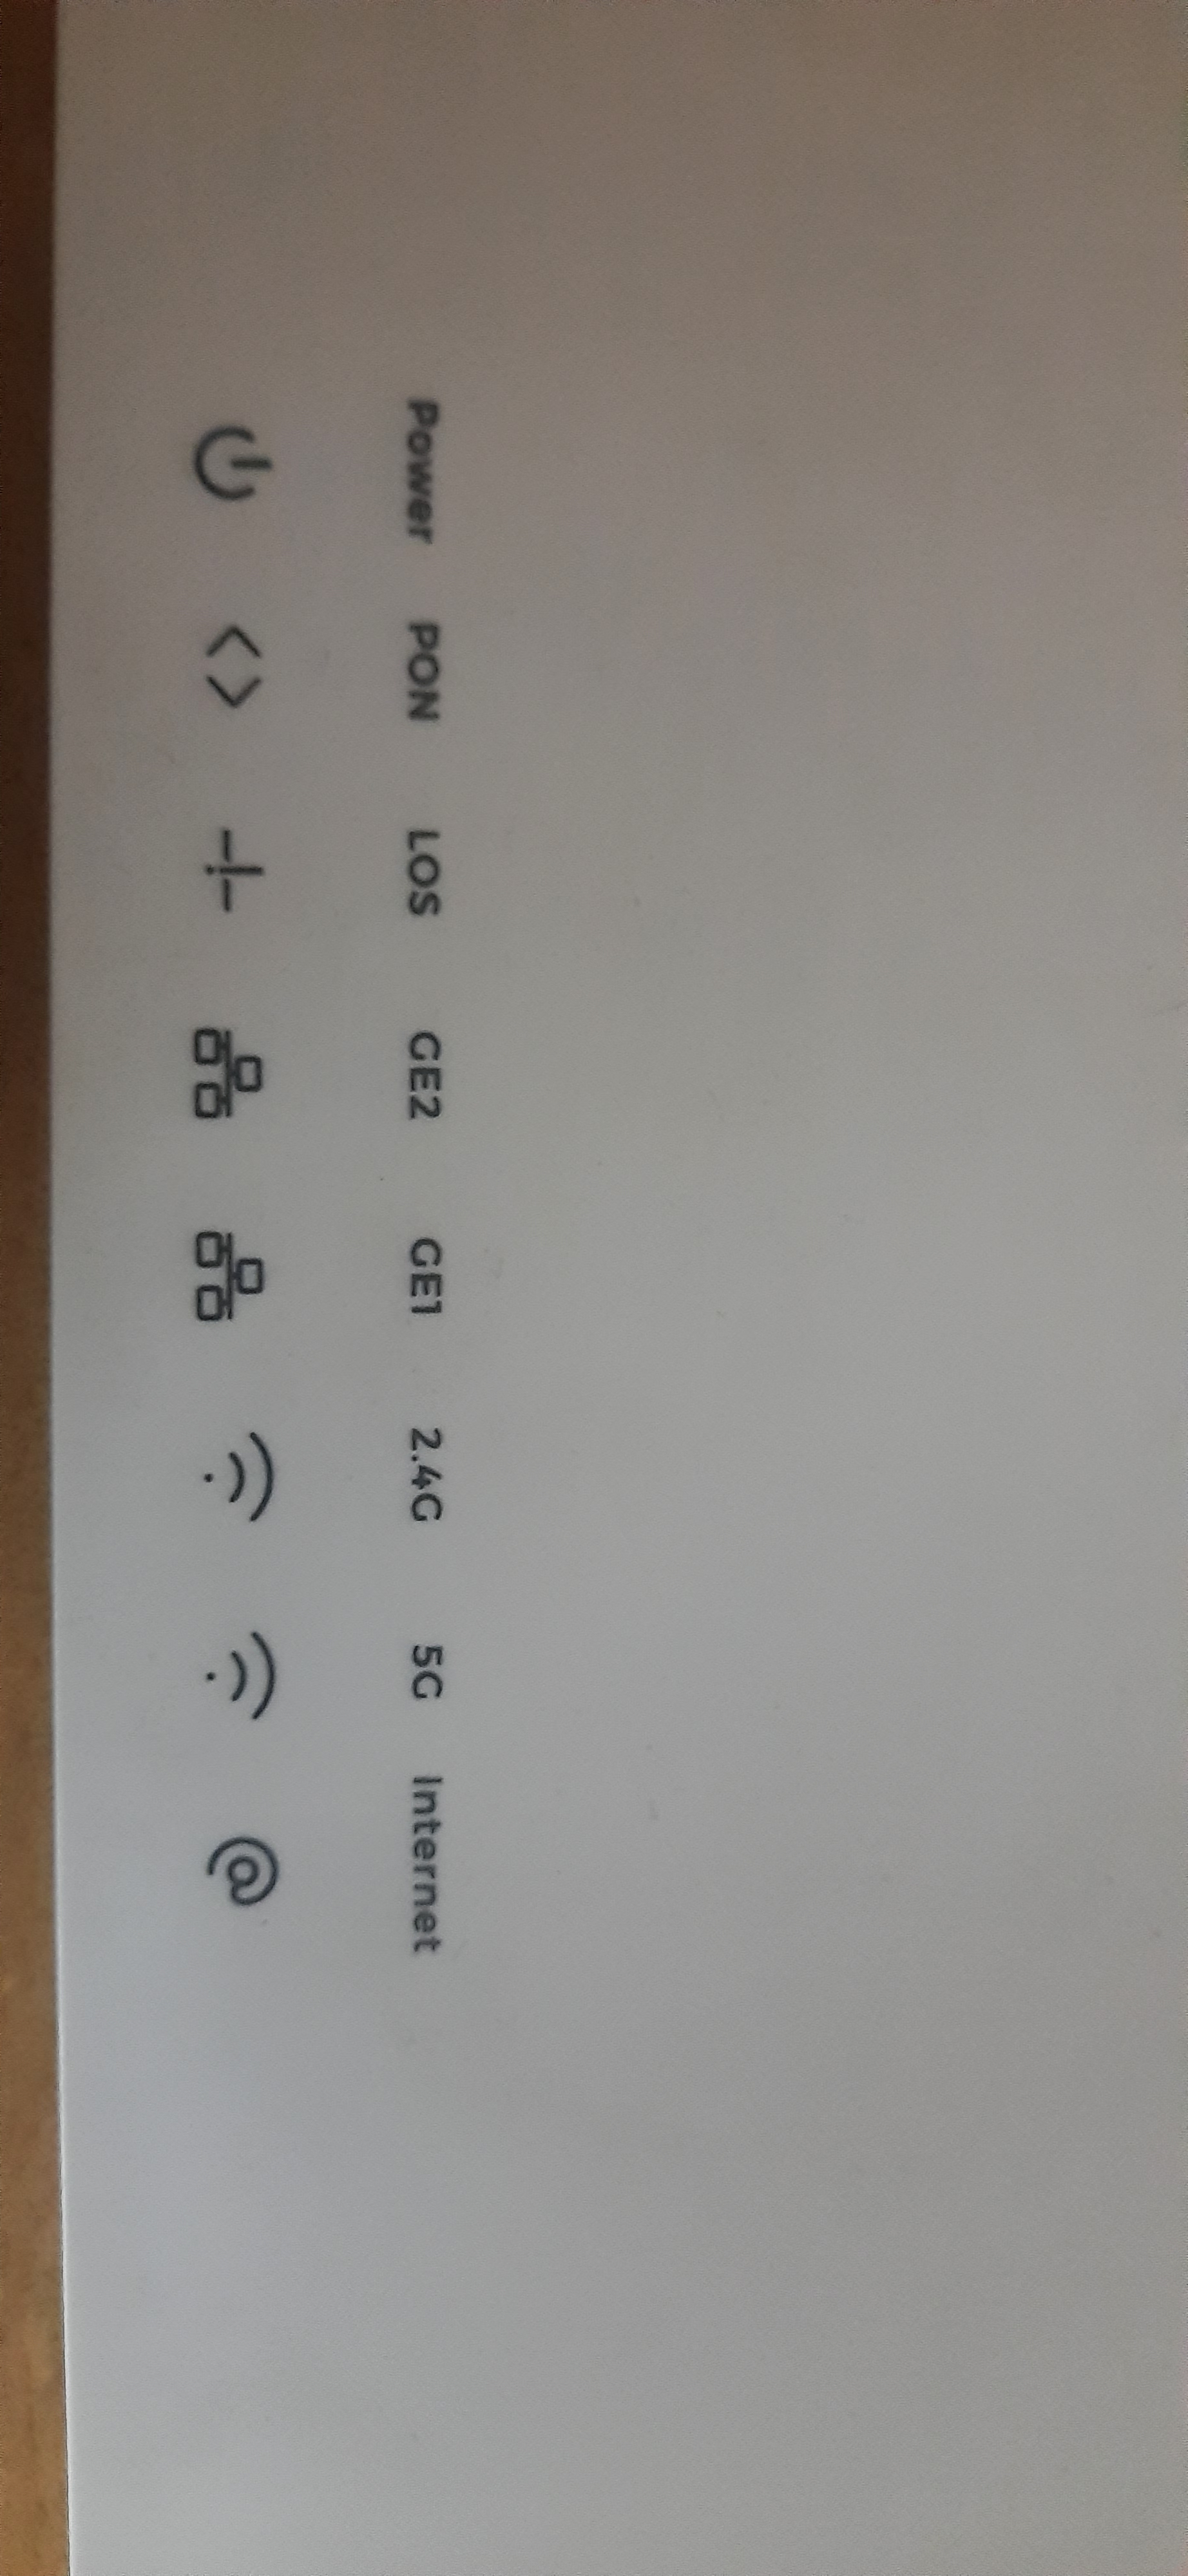WhiteWireIssue: (140, 314, 536, 2081)
